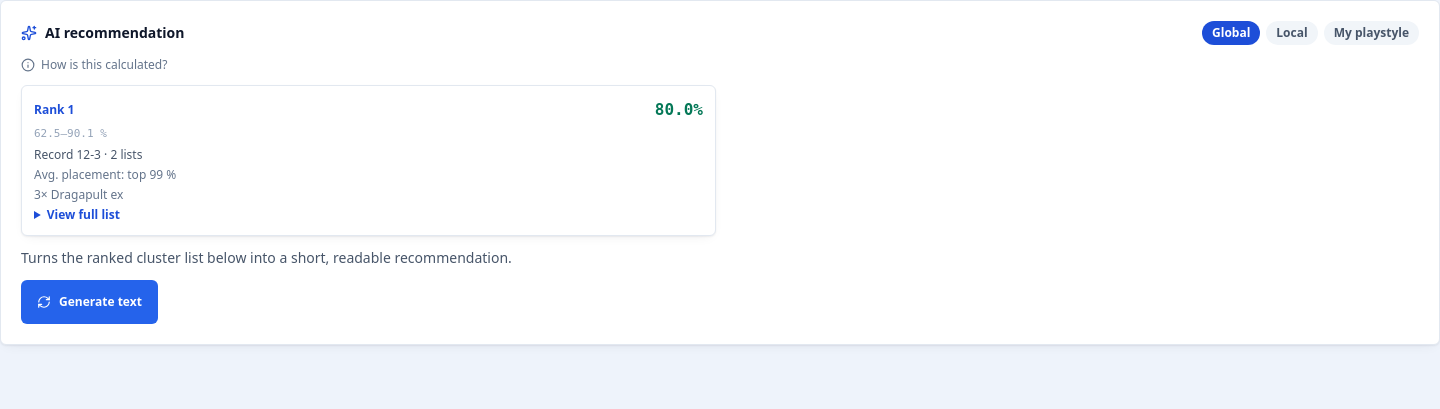
ArchetypeRecommendationPanel — local field weighting (Spec 10 Slice D UI) › shows the empty-field hint and sends no localField when localMeta is empty
Click the button with test id "archetype-recommendation-scope-local".
click(1292, 33)  # box 1266,21 -> 1318,45
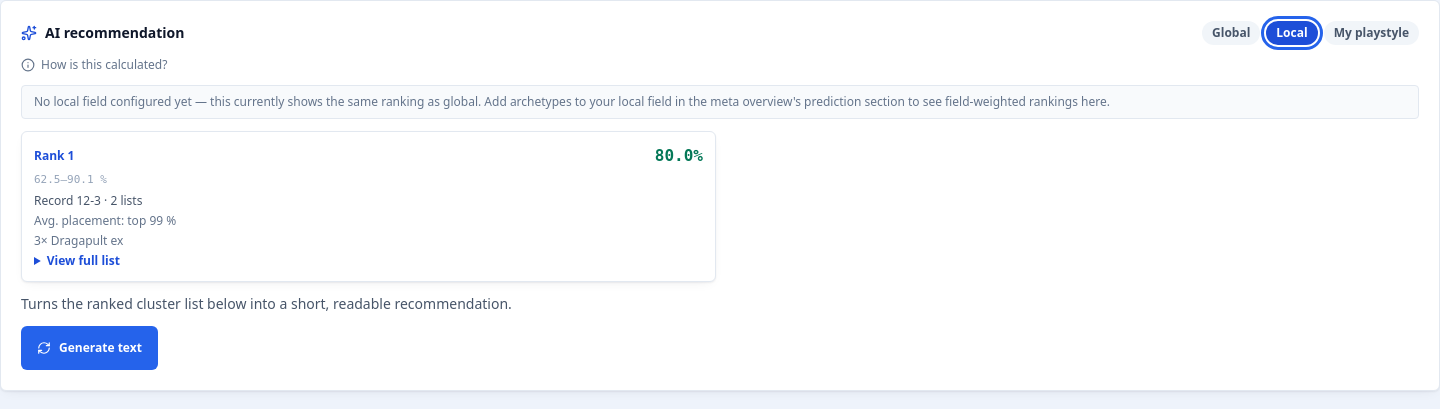
Now the text with test id "archetype-recommendation-local-field-empty" is shown, box 21,85 -> 1419,119
